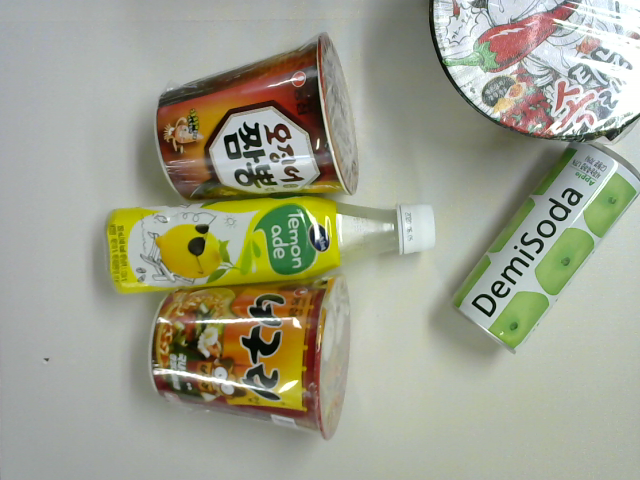Demisoda_Apple_Can_250ml: (450, 139, 640, 357)
HeJangsock: (428, 1, 640, 140)
Ojjam: (152, 33, 359, 204)
Raccoon: (148, 275, 352, 442)
Sunkist_Lemonaid_Pet: (104, 193, 436, 301)
